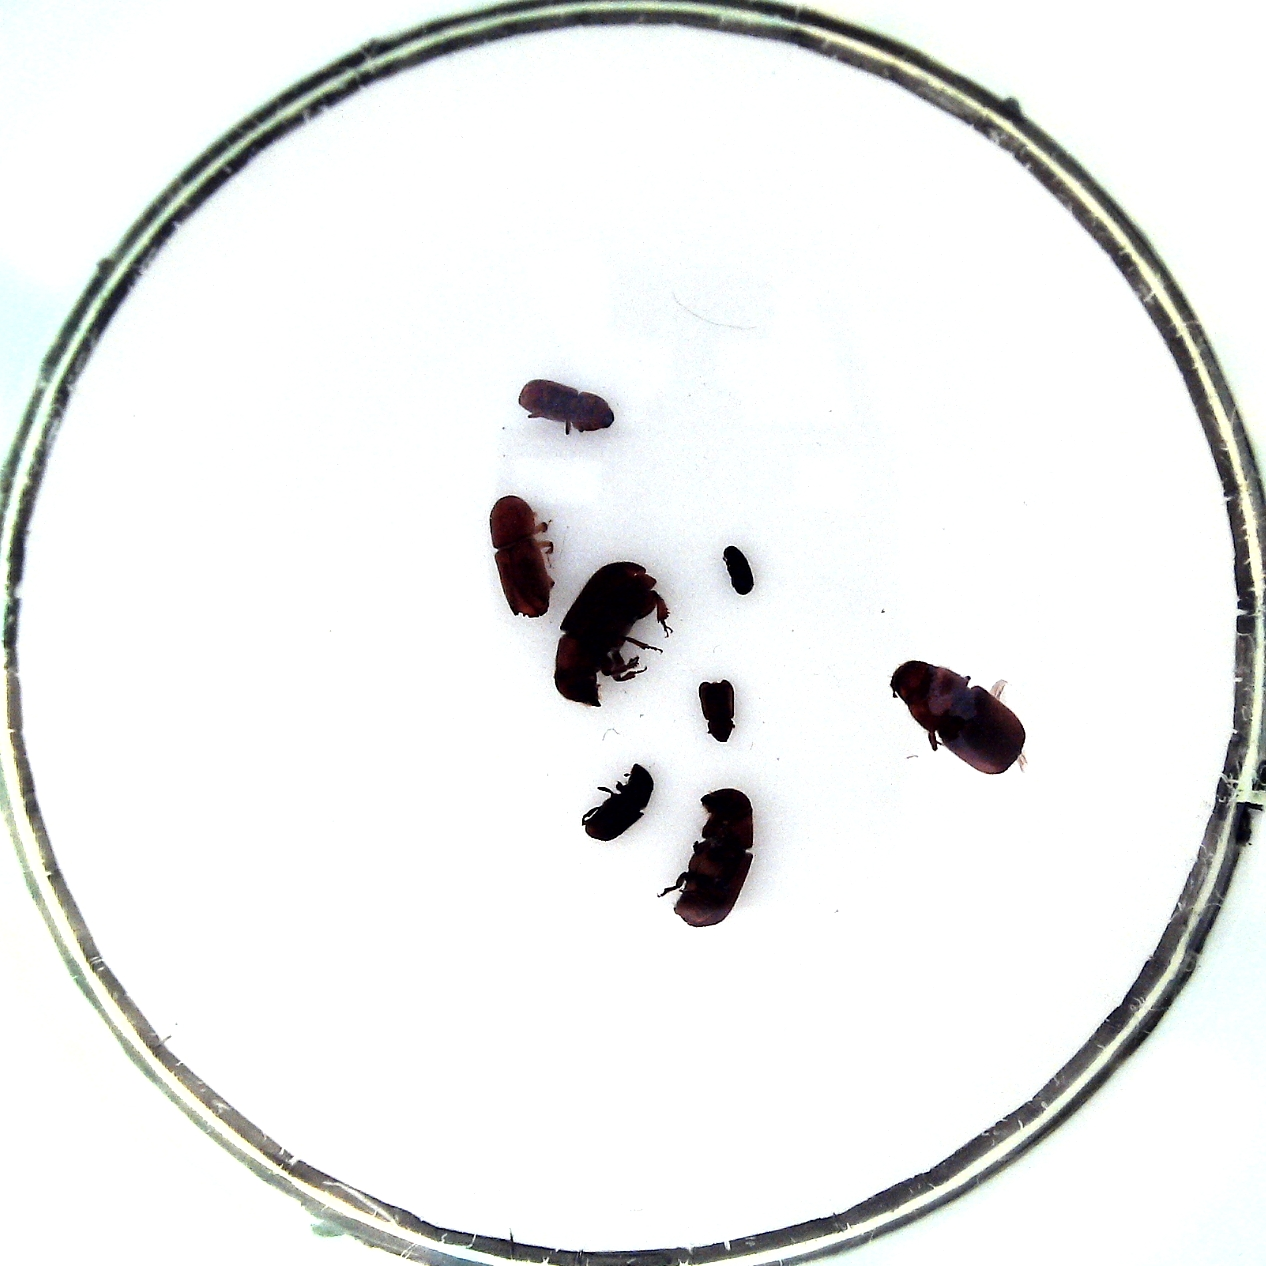Boerner: (489, 494, 555, 618)
Leconte: (890, 660, 1026, 774), (555, 561, 655, 710), (675, 783, 754, 927)
acuminatus: (721, 544, 754, 595)
armandi: (583, 763, 654, 841)
coleoptera: (698, 678, 735, 743)
linnaeus: (519, 379, 614, 432)
